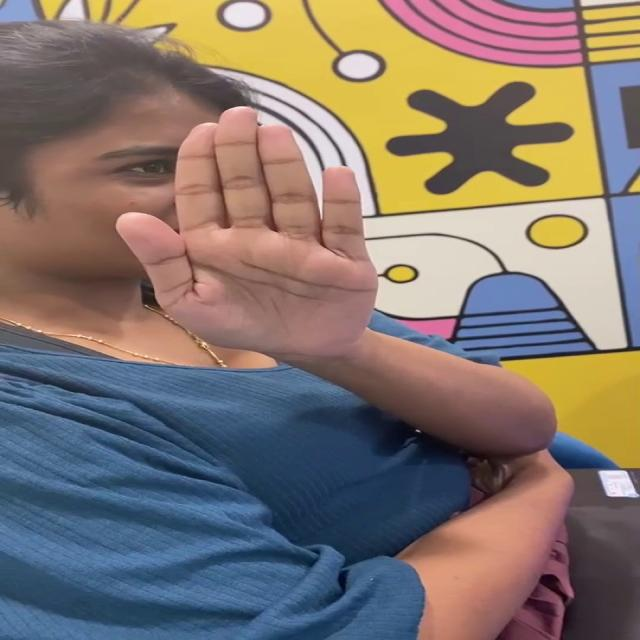no-gloves: (110, 101, 397, 372)
